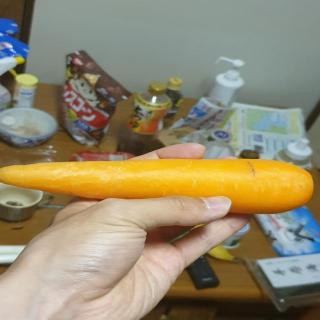carrot: (0, 156, 318, 216)
